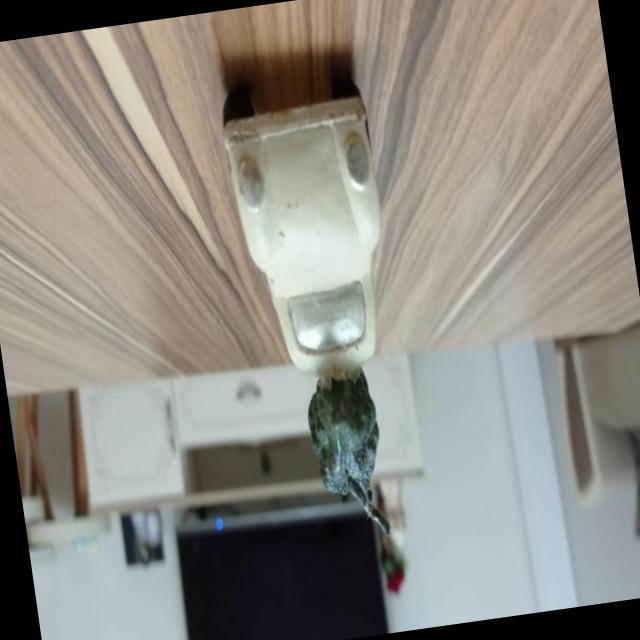car: (224, 70, 404, 378)
